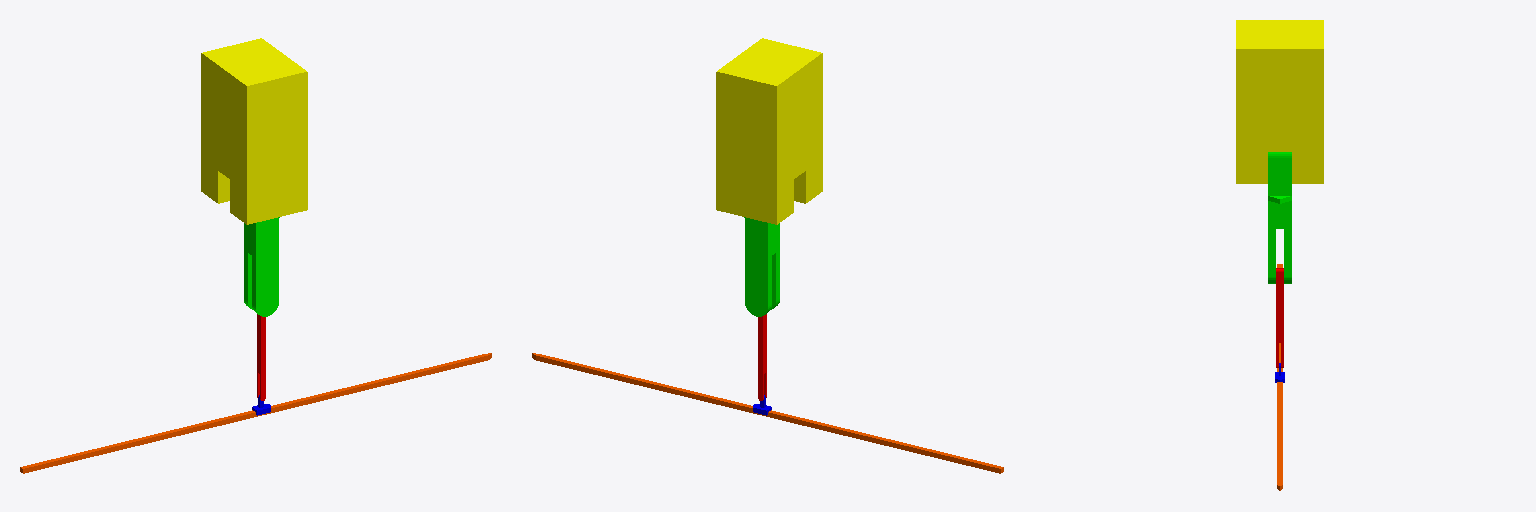
robot.urdf — single_leg:
<?xml version="1.0" ?>
<robot name="single_leg">
    <link name="rail">
        <visual>
            <origin xyz=" 0 0 0" rpy="0 0 0" />
            <geometry>
                <mesh filename="package://single_leg_description/meshes/rail.STL"/>
            </geometry>
            <material name="yellow">
                <color rgba="1 0.4 0 1"/>
            </material>
        </visual>
    </link>
    <joint name="parallel_rail" type="prismatic">
        <parent link="rail"/>
        <child link="cart"/>
        <origin xyz="1000 -10 10" />
        <axis xyz="1 0 0"/>
        <limit lower="-1000" upper="1000" effort="1.0" velocity="1" />
    </joint>
    <link name="cart">
        <visual>
            <origin xyz="0 0 0" rpy="0 0 0" />
            <geometry>
                <mesh filename="package://single_leg_description/meshes/cart.STL"/>
            </geometry>
            <material name="blue">
                <color rgba="0 0 1 0.9"/>
            </material>
        </visual>
    </link>
    <joint name="ankel" type="continuous">
        <parent link="cart"/>
        <child link="calf"/>
        <origin xyz="30 5 60" rpy="0 0 0" />
        <axis xyz="0 1 0"/>
    </joint>
    <link name="calf">
        <visual>
            <origin xyz="-10 0 -10" rpy="0 0 0" />
            <geometry>
                <mesh filename="package://single_leg_description/meshes/calf.STL"/>
            </geometry>
            <material name="red">
                <color rgba="1 0 0 0.4"/>
            </material>
        </visual>
    </link>
    <joint name="knee" type="continuous">
        <parent link="calf"/>
        <child link="thigh"/>
        <origin xyz="0 0 400" rpy="0 0 0" />
        <axis xyz="0 1 0"/>
    </joint>
    <link name="thigh">
        <visual>
            <origin xyz="-50 -30 -50" rpy="0 0 0" />
            <geometry>
                <mesh filename="package://single_leg_description/meshes/thigh.STL"/>
            </geometry>
            <material name="green">
                <color rgba="0 1 0 0.4"/>
            </material>
        </visual>
    </link>
    <joint name="hip" type="continuous">
        <parent link="thigh"/>
        <child link="trunk"/>
        <origin xyz="0 0 500" rpy="0 0 0" />
        <axis xyz="0 1 0"/>
    </joint>
    <link name="trunk">
        <visual>
            <origin xyz="-160 -155 -86" rpy="0 0 0" />
            <geometry>
                <mesh filename="package://single_leg_description/meshes/trunk.STL"/>
            </geometry>
            <material name="">
                <color rgba="1 1 0 0.4"/>
            </material>
        </visual>
    </link>
</robot>
    

--- What the picture shows (computed from the rendered views, not written in the file) ---
Views: 3 orthographic renders of the robot side by side, from view 1: azimuth 30°, elevation 25°; view 2: azimuth 150°, elevation 25°; view 3: azimuth 270°, elevation 25°.
Robot: single_leg — 5 links, 4 joints (3 continuous, 1 prismatic); root link rail; default pose: all joints at 0.
Visible links, largest first — view 1: trunk, rail, thigh, calf; view 2: trunk, rail, thigh, calf; view 3: trunk, thigh, calf, rail.
Boxes of the visible links, x1,y1,x2,y2 form: trunk: (201, 38, 307, 224); rail: (20, 353, 491, 473); thigh: (244, 217, 279, 316); calf: (257, 314, 265, 400); trunk: (716, 38, 822, 224); rail: (532, 353, 1003, 473); thigh: (744, 217, 779, 316); calf: (758, 314, 766, 400); trunk: (1236, 20, 1323, 183); thigh: (1268, 152, 1291, 283); calf: (1276, 268, 1283, 367); rail: (1277, 264, 1282, 490).
Size in the robot's own frame: 2019 by 340 by 1454 metres.
5 mesh visuals loaded from 5 distinct referenced files (5 binary STL).